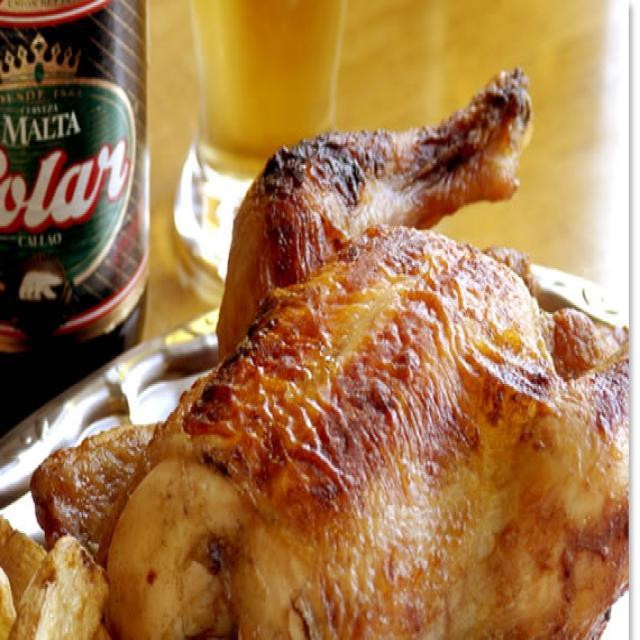Chicken: (140, 89, 640, 633)
